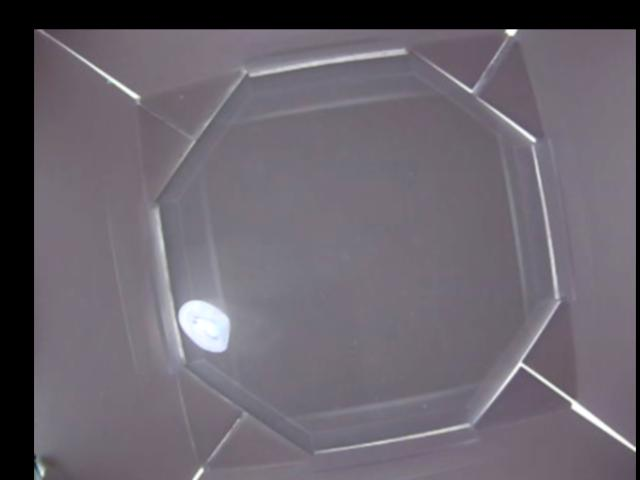Pebble: (177, 297, 234, 352)
